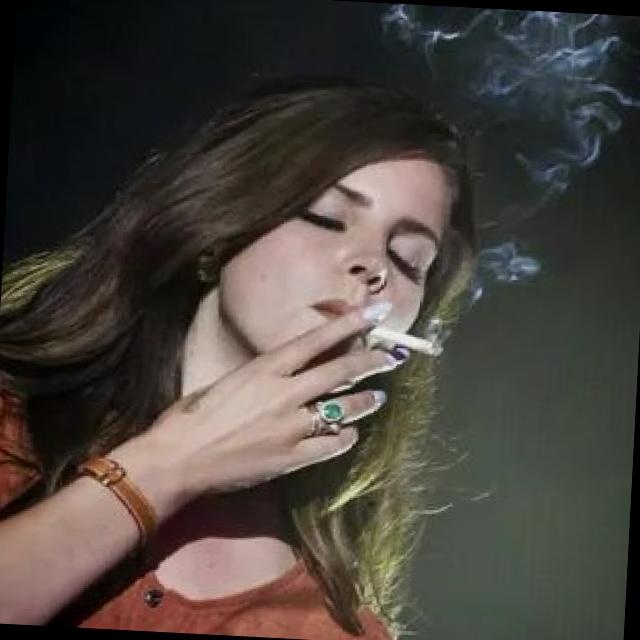smoke: (356, 314, 446, 365)
